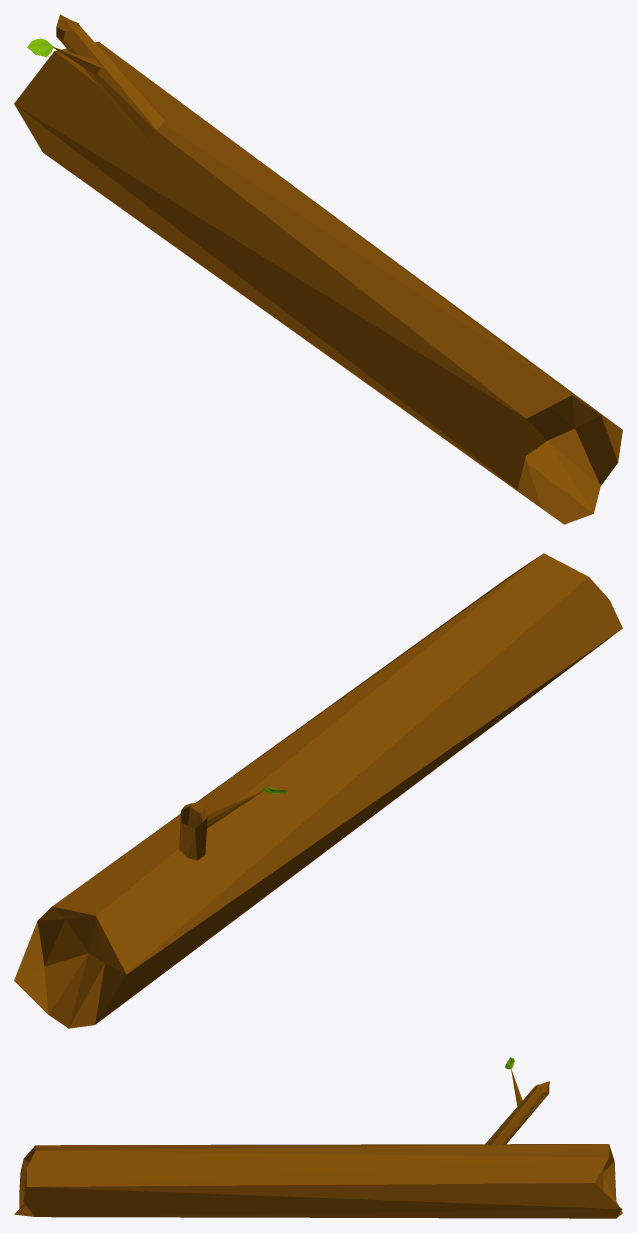
Rendered from SittingLog.dae.
3 renders of one model, top to bottom at view 1: azimuth 30°, elevation 25°; view 2: azimuth 150°, elevation 25°; view 3: azimuth 270°, elevation 25°, orthographic. The views are drawn at different scales.
Visible parts, largest first — view 1: Cylinder, Cylinder_001; view 2: Cylinder, Cylinder_001; view 3: Cylinder, Cylinder_001.
Part boxes in pixels (box(x1,y1,x2,y2)): Cylinder: box(14, 41, 622, 524); Cylinder_001: box(56, 14, 165, 137); Cylinder: box(14, 553, 622, 1028); Cylinder_001: box(179, 803, 207, 860); Cylinder: box(14, 1144, 622, 1218); Cylinder_001: box(485, 1081, 549, 1146).
Size of the model in its own units: 0.8764 by 4.2 by 0.9205.
